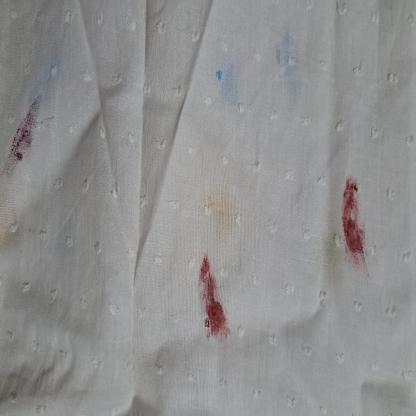spot: (2, 49, 65, 181), (196, 242, 238, 344), (337, 166, 373, 265), (280, 24, 302, 109), (208, 190, 244, 232), (214, 58, 238, 115), (0, 212, 17, 242), (28, 224, 39, 237)
